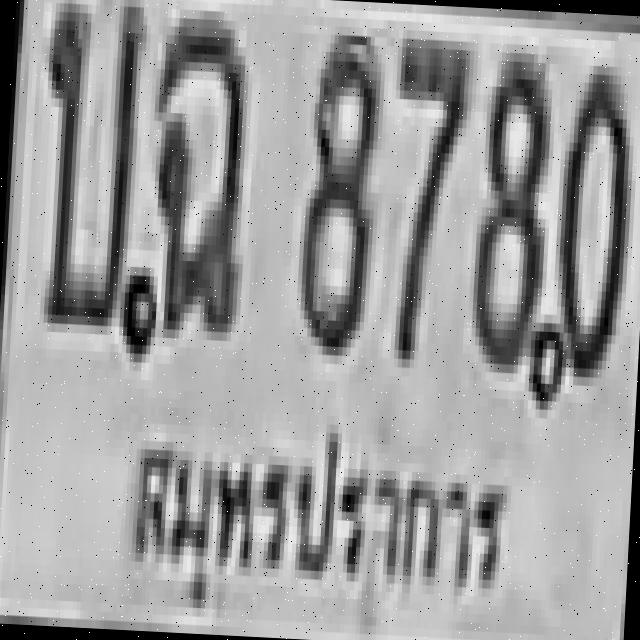0: (546, 56, 634, 378)
18ChorChing: (141, 9, 250, 333)
35BorBaiMai: (31, 0, 145, 327)
7: (384, 30, 469, 362)
8: (294, 25, 380, 348), (466, 42, 551, 366)
SamutPrakan: (121, 398, 520, 622)
